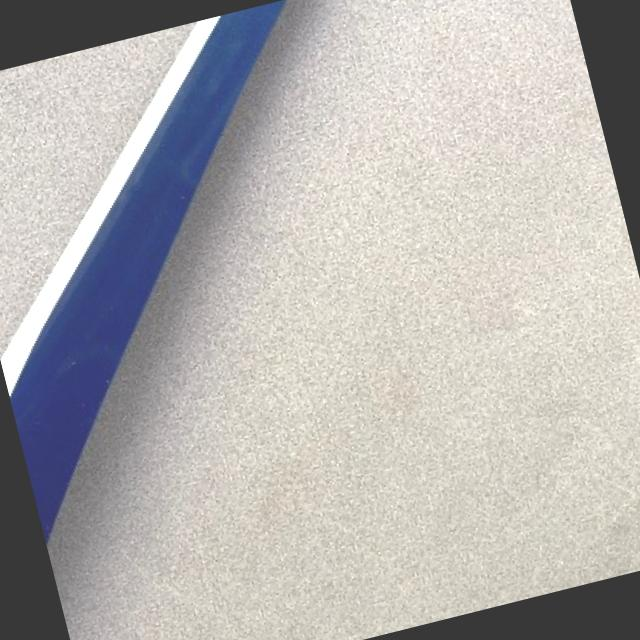healthy: (50, 0, 640, 640)
